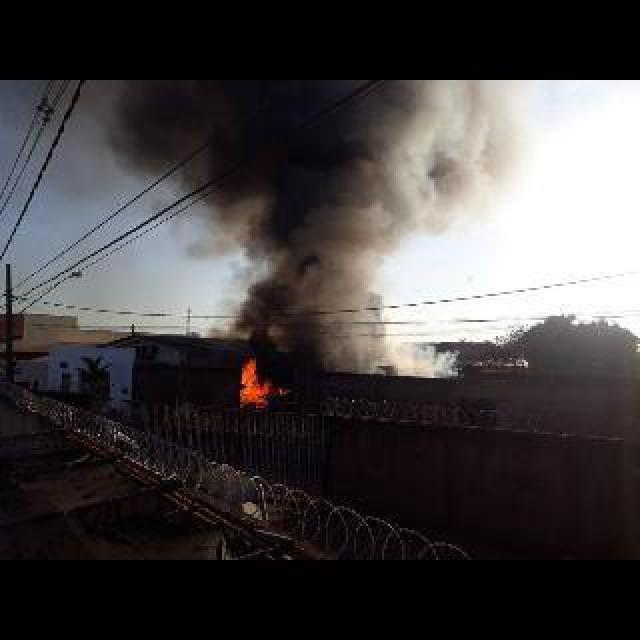Fire: (232, 350, 276, 406)
Smoke: (0, 80, 536, 346)
